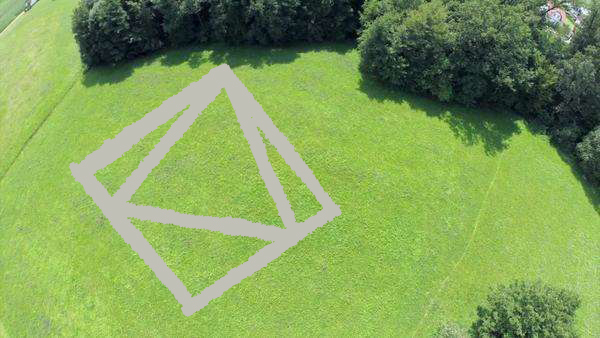marker: (64, 61, 346, 320)
